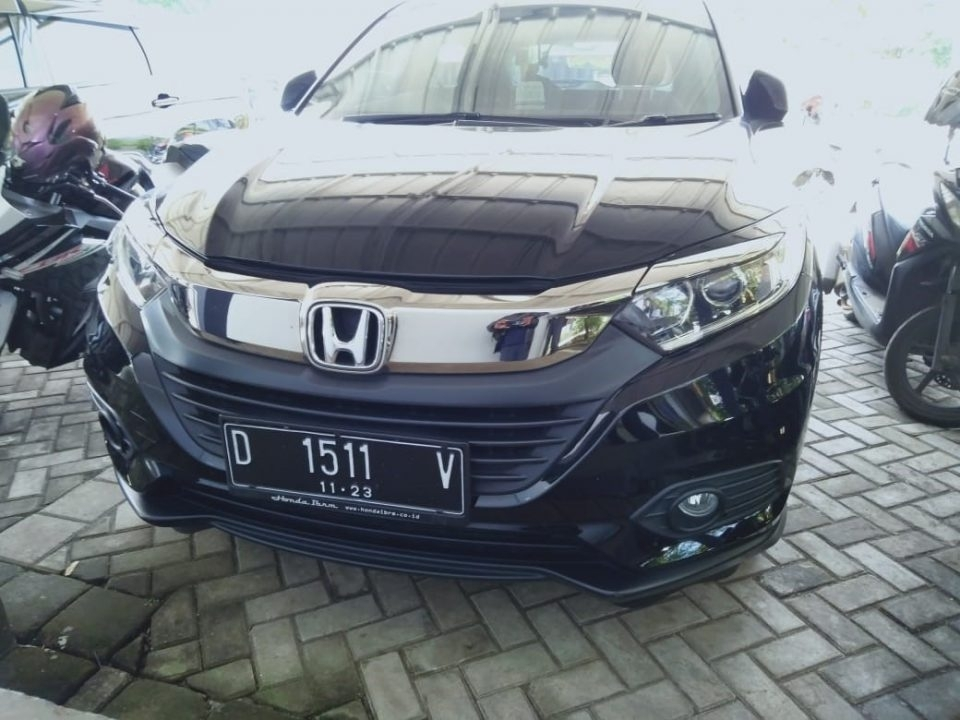plate: (222, 419, 464, 514)
